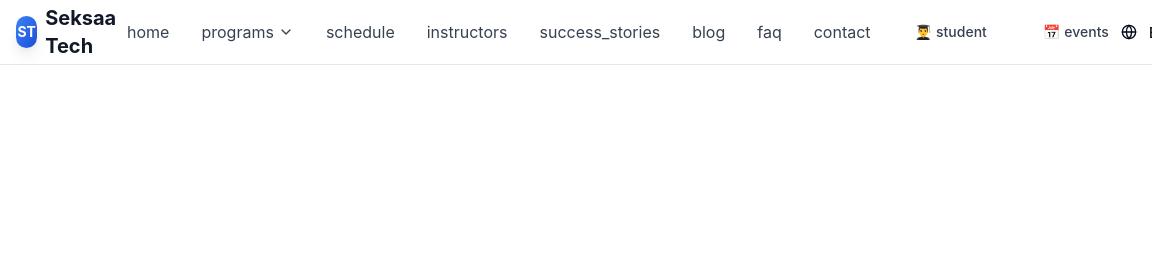
Scenario: Navigation Component › shows programs dropdown on hover
// Hover over programs link
Hover over the button "programs" at (248, 32), box left=202, top=20, right=294, bottom=44
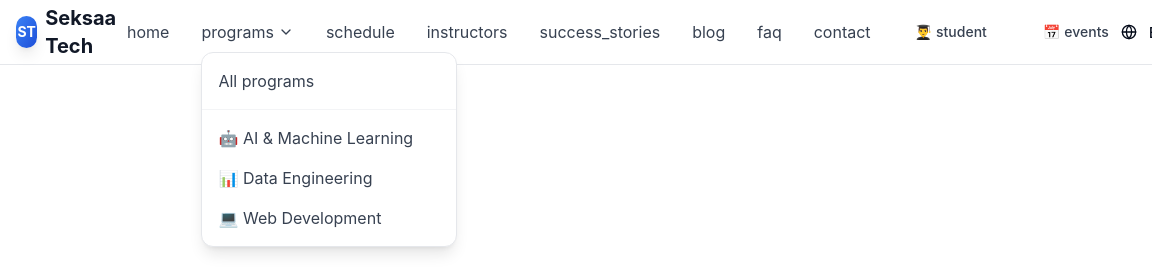
Result: the link "🤖 AI & Machine Learning" is shown at left=218, top=128, right=413, bottom=148
Result: the link "📊 Data Engineering" is shown at left=218, top=168, right=372, bottom=188
Result: the link "💻 Web Development" is shown at left=218, top=208, right=381, bottom=228
